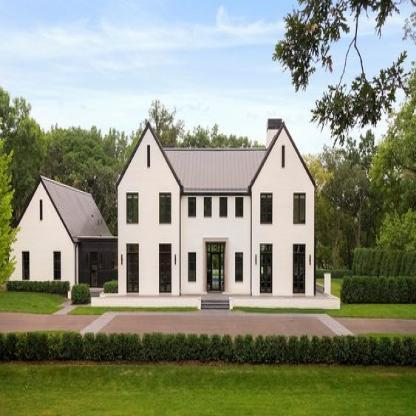Building Outline: (115, 118, 318, 297)
Door: (212, 253, 221, 291)
Facade: (116, 118, 319, 297)
Roof: (115, 119, 318, 196)
Window: (207, 244, 225, 291), (127, 245, 139, 293), (294, 245, 306, 293), (260, 245, 272, 293), (160, 245, 172, 293), (127, 193, 139, 224), (260, 193, 272, 224), (294, 193, 306, 224), (160, 193, 172, 224), (188, 252, 196, 282), (235, 252, 243, 282), (188, 197, 196, 218), (204, 197, 212, 218), (220, 197, 228, 218), (235, 197, 243, 218), (282, 145, 285, 168), (147, 145, 150, 168)
